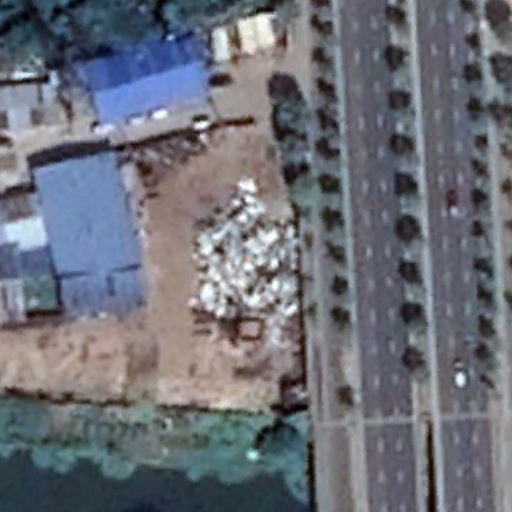msw: (193, 177, 303, 353)
